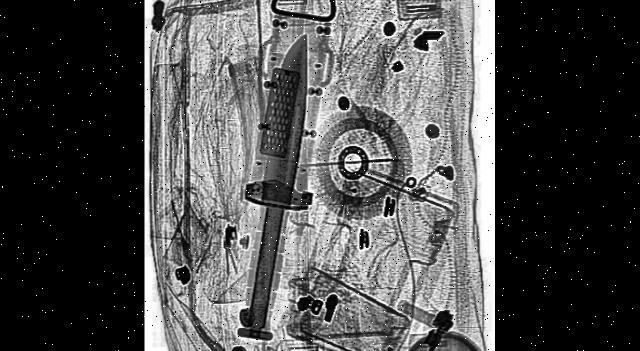Knife: (220, 8, 339, 351)
